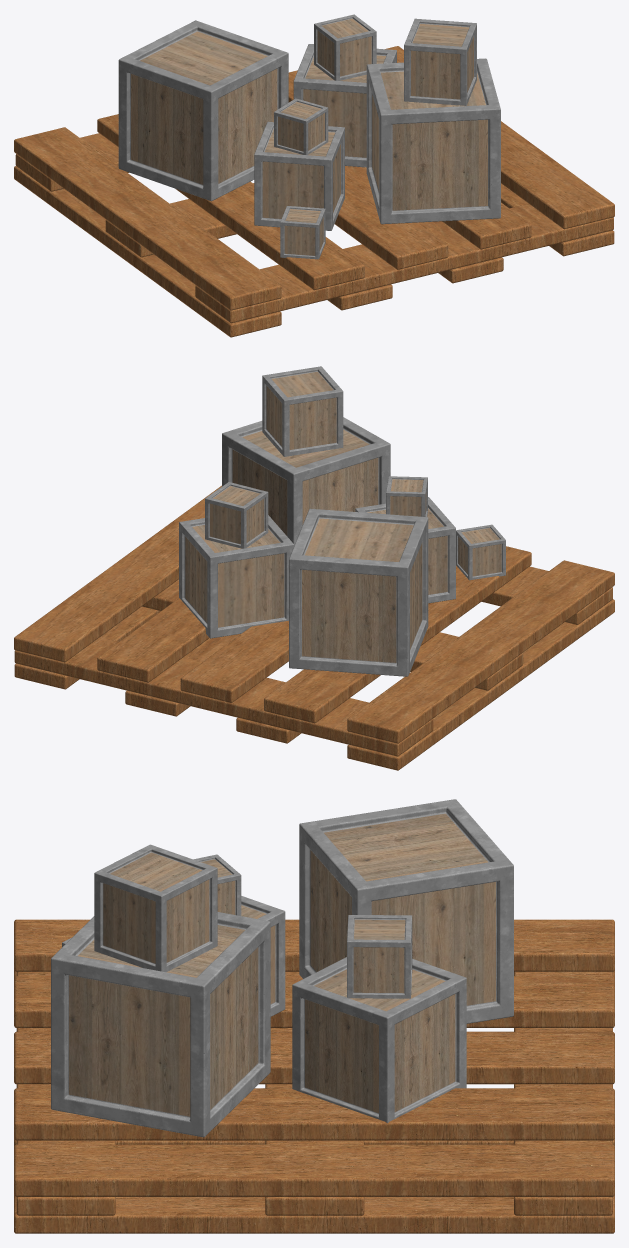
Rendered from Pallet com Caixas.glb.
The picture shows the model from 3 angles, top to bottom: view 1: azimuth 30°, elevation 25°; view 2: azimuth 150°, elevation 25°; view 3: azimuth 270°, elevation 25°; orthographic projection. The views are drawn at different scales.
Parts seen in each view (by area): view 1: Cube.016, Cube.001, Cube.002, Cube.003, Cube.005, Cube.004, Cube.007, Cube.008, Cube.006; view 2: Cube.016, Cube.001, Cube.002, Cube.004, Cube.005, Cube.007, Cube.003, Cube.006, Cube.008; view 3: Cube.016, Cube.002, Cube.001, Cube.004, Cube.005, Cube.007, Cube.003, Cube.008.
Boxes of the visible parts, x1,y1,x2,y2 form: Cube.016: (14, 46, 614, 337); Cube.001: (118, 20, 288, 201); Cube.002: (366, 58, 500, 224); Cube.003: (254, 121, 344, 230); Cube.005: (404, 18, 476, 105); Cube.004: (293, 44, 396, 167); Cube.007: (314, 14, 376, 80); Cube.008: (274, 98, 328, 155); Cube.006: (280, 206, 325, 259); Cube.016: (14, 485, 614, 770); Cube.001: (289, 508, 428, 676); Cube.002: (222, 417, 390, 545); Cube.004: (179, 515, 294, 638); Cube.005: (262, 366, 343, 456); Cube.007: (205, 482, 268, 548); Cube.003: (355, 497, 455, 603); Cube.006: (456, 524, 505, 580); Cube.008: (386, 476, 427, 516); Cube.016: (14, 919, 614, 1233); Cube.002: (51, 912, 270, 1137); Cube.001: (299, 799, 513, 1023); Cube.004: (292, 957, 466, 1123); Cube.005: (94, 844, 217, 972); Cube.007: (347, 915, 412, 998); Cube.003: (241, 896, 285, 1016); Cube.008: (193, 854, 241, 915).
Bounding box in the file's own units: 2.44 × 1.23 × 2.38.
3 materials, 3 textured.
